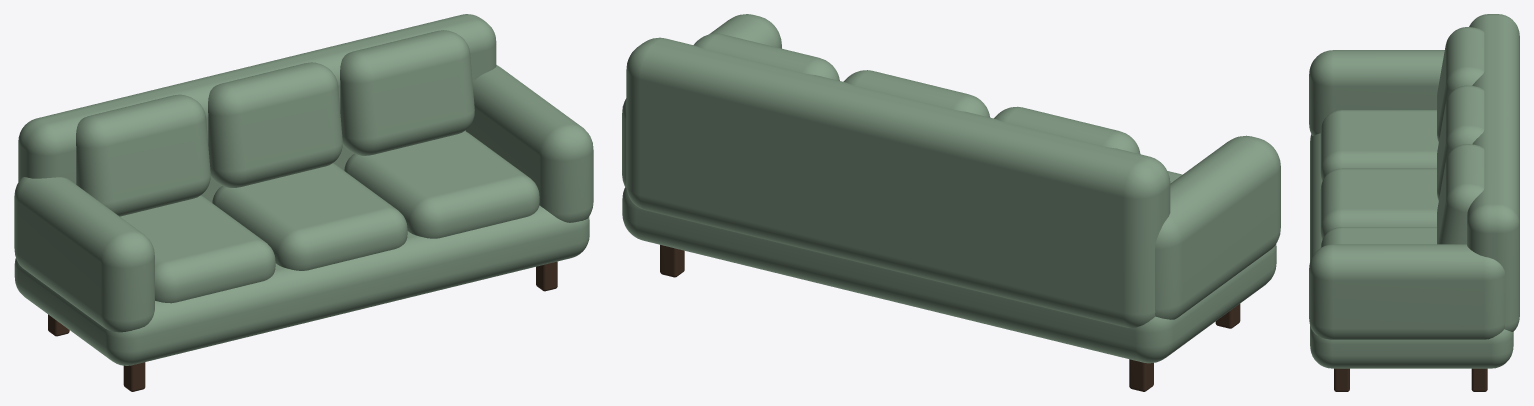
Rendered from sofa_no_pillows_sage_green.glb.
The picture shows the model from 3 angles, left to right: view 1: azimuth 30°, elevation 25°; view 2: azimuth 150°, elevation 25°; view 3: azimuth 270°, elevation 25°; orthographic projection. The views are drawn at different scales.
Parts seen in each view (by area): view 1: Upholstered foundation, Rounded padded arm, Plush back cushion.002, Plush back cushion.001, Plush back cushion, Seat cushion.002, Seat cushion.001, Rounded padded arm.001, Padded back frame, Seat cushion, Walnut foot, Walnut foot.002; view 2: Padded back frame, Upholstered foundation, Rounded padded arm, Plush back cushion.001, Plush back cushion.002, Plush back cushion, Rounded padded arm.001, Walnut foot.001, Walnut foot.003; view 3: Rounded padded arm.001, Padded back frame, Rounded padded arm, Upholstered foundation, Seat cushion, Seat cushion.001, Plush back cushion.002, Plush back cushion.001, Plush back cushion, Seat cushion.002, Walnut foot.003, Walnut foot.002.
Boxes of the visible parts, x1=… form: Upholstered foundation: x1=14, y1=205, x2=589, y2=365; Rounded padded arm: x1=14, y1=177, x2=154, y2=332; Plush back cushion.002: x1=340, y1=30, x2=474, y2=155; Plush back cushion.001: x1=208, y1=62, x2=342, y2=187; Plush back cushion: x1=76, y1=94, x2=210, y2=216; Seat cushion.002: x1=344, y1=131, x2=539, y2=238; Seat cushion.001: x1=212, y1=163, x2=407, y2=270; Rounded padded arm.001: x1=466, y1=65, x2=593, y2=222; Padded back frame: x1=18, y1=14, x2=496, y2=202; Seat cushion: x1=120, y1=195, x2=275, y2=303; Walnut foot: x1=123, y1=362, x2=145, y2=391; Walnut foot.002: x1=536, y1=261, x2=557, y2=291; Padded back frame: x1=626, y1=37, x2=1170, y2=328; Upholstered foundation: x1=622, y1=187, x2=1276, y2=363; Rounded padded arm: x1=1155, y1=135, x2=1280, y2=319; Plush back cushion.001: x1=843, y1=70, x2=990, y2=117; Plush back cushion.002: x1=693, y1=33, x2=839, y2=80; Plush back cushion: x1=994, y1=106, x2=1140, y2=154; Rounded padded arm.001: x1=622, y1=14, x2=781, y2=187; Walnut foot.001: x1=1129, y1=359, x2=1153, y2=391; Walnut foot.003: x1=660, y1=245, x2=684, y2=277; Rounded padded arm.001: x1=1309, y1=244, x2=1505, y2=339; Padded back frame: x1=1467, y1=14, x2=1519, y2=331; Rounded padded arm: x1=1309, y1=50, x2=1444, y2=135; Upholstered foundation: x1=1310, y1=133, x2=1513, y2=368; Seat cushion: x1=1320, y1=110, x2=1438, y2=181; Seat cushion.001: x1=1320, y1=168, x2=1438, y2=239; Plush back cushion.002: x1=1437, y1=144, x2=1484, y2=244; Plush back cushion.001: x1=1437, y1=85, x2=1484, y2=200; Plush back cushion: x1=1437, y1=27, x2=1484, y2=142; Seat cushion.002: x1=1320, y1=227, x2=1436, y2=247; Walnut foot.003: x1=1471, y1=368, x2=1487, y2=391; Walnut foot.002: x1=1334, y1=368, x2=1349, y2=391.
Size of the model in its own units: 2.42 by 0.9999 by 0.995.
